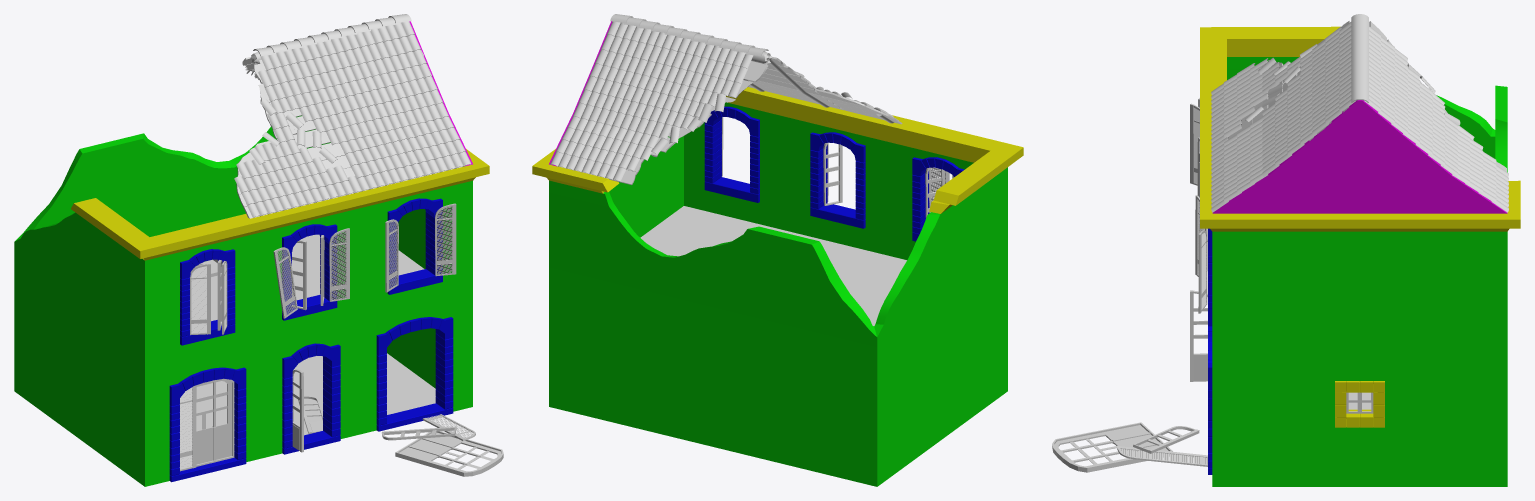
The model's file is RuinedHouse_House_Set_03_1_high.fbx.
3 views of the same model, side by side, from view 1: azimuth 30°, elevation 25°; view 2: azimuth 150°, elevation 25°; view 3: azimuth 270°, elevation 25° (orthographic). The views are drawn at different scales.
Parts seen in each view (by area): view 1: house_Baked, roof_Baked, stones_Baked, wood_Baked, pavement_Baked, planks_Baked, first_floor_Baked; view 2: house_Baked, roof_Baked, stones_Baked, first_floor_Baked, planks_Baked, wood_Baked, beams_Baked; view 3: house_Baked, roof_Baked, stones_Baked, wood_Baked, planks_Baked.
Part boxes in pixels (<box>): house_Baked: <box>14,21,472,486</box>; roof_Baked: <box>234,14,471,217</box>; stones_Baked: <box>71,149,489,482</box>; wood_Baked: <box>179,203,503,476</box>; pavement_Baked: <box>196,353,435,435</box>; planks_Baked: <box>236,50,462,218</box>; first_floor_Baked: <box>211,234,424,321</box>; house_Baked: <box>549,21,1007,486</box>; roof_Baked: <box>550,14,898,181</box>; stones_Baked: <box>532,87,1023,241</box>; first_floor_Baked: <box>640,206,906,325</box>; planks_Baked: <box>559,56,902,184</box>; wood_Baked: <box>722,117,953,325</box>; beams_Baked: <box>651,52,894,157</box>; house_Baked: <box>1212,57,1507,486</box>; roof_Baked: <box>1211,14,1508,212</box>; stones_Baked: <box>1200,26,1520,474</box>; wood_Baked: <box>1052,98,1373,472</box>; planks_Baked: <box>1219,21,1506,171</box>.
Size of the model in its own units: 829 by 783 by 851.
